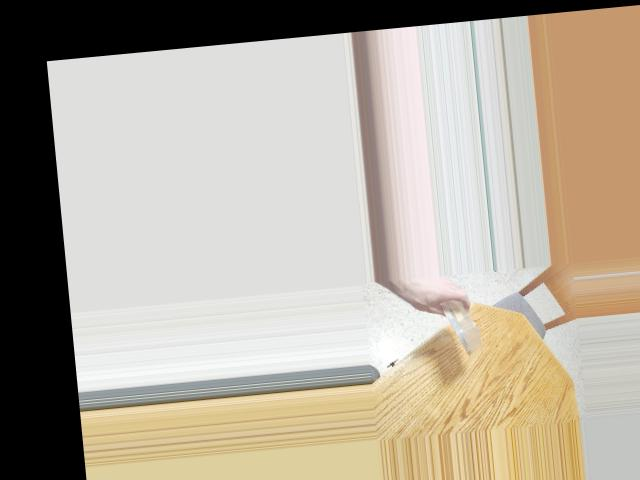cheese: (441, 290, 483, 359)
